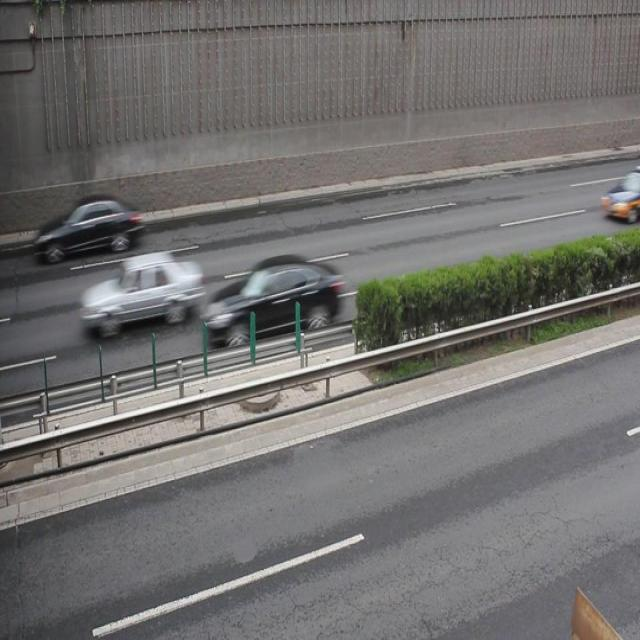car: (204, 256, 342, 348), (79, 252, 201, 334), (41, 194, 142, 261), (600, 174, 640, 220)
